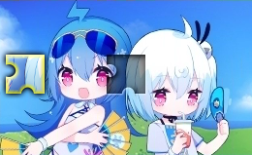gap: (106, 54, 145, 94)
